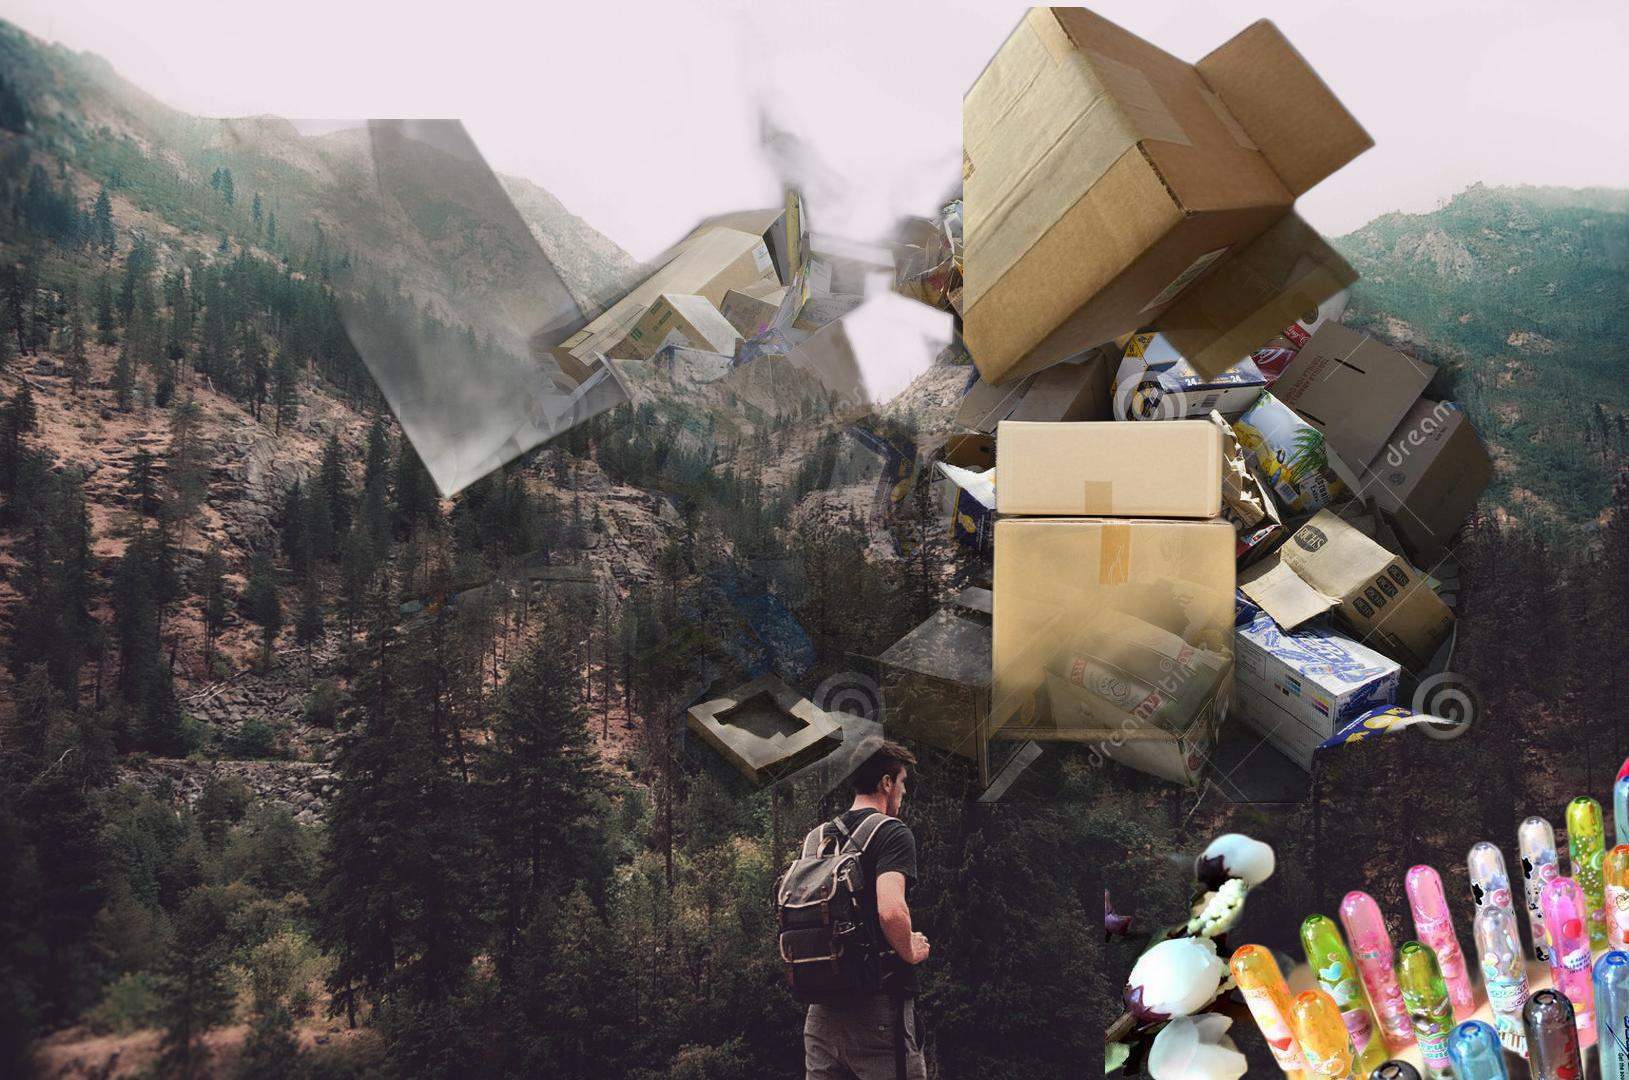paper: (220, 119, 639, 503)
penholder: (1105, 738, 1629, 1080)
plastic-bag: (1602, 868, 1629, 1033)
trashbox-cardboard: (400, 1, 1629, 892), (883, 416, 1346, 763), (963, 7, 1381, 391)
